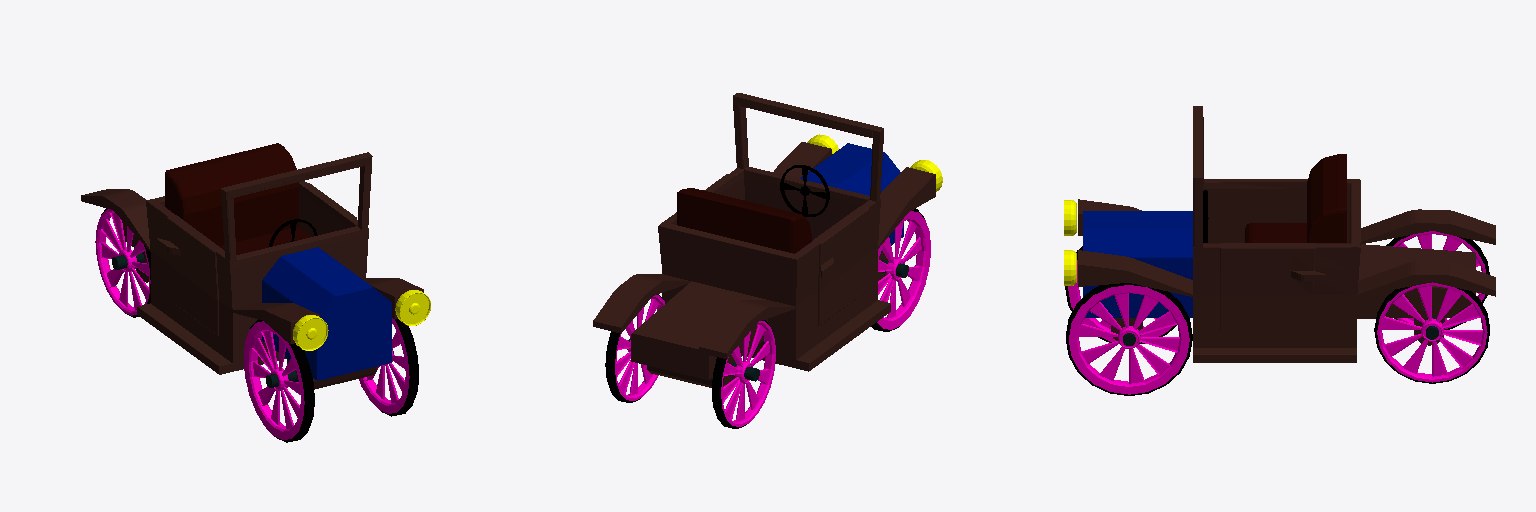
The model's file is testVehicle.obj.
The picture shows the model from 3 angles: view 1: azimuth 30°, elevation 25°; view 2: azimuth 150°, elevation 25°; view 3: azimuth 270°, elevation 25°; orthographic projection.
Visible parts, largest first — view 1: polySurface39; view 2: polySurface39; view 3: polySurface39.
Part boxes in pixels (bbox=[...]): polySurface39: bbox=[81, 143, 430, 442]; polySurface39: bbox=[593, 93, 942, 428]; polySurface39: bbox=[1064, 106, 1495, 395].
Size of the model in its own units: 239 by 326 by 560.